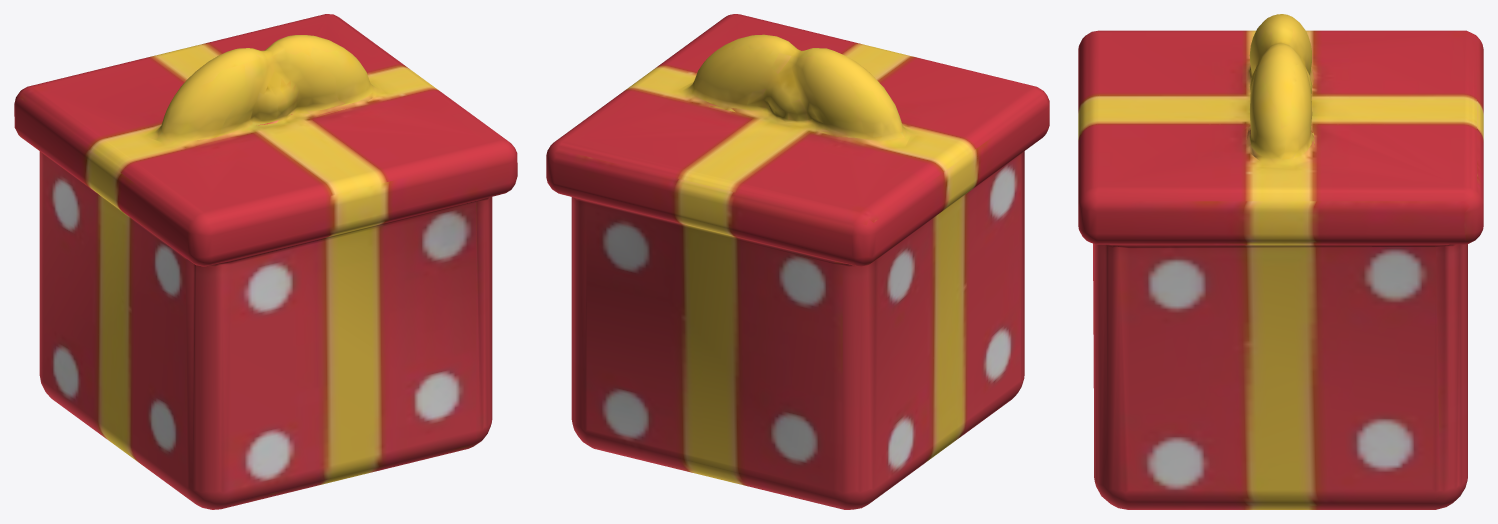
File: item.giftbox.glb
3 views of the same model, side by side, from view 1: azimuth 30°, elevation 25°; view 2: azimuth 150°, elevation 25°; view 3: azimuth 270°, elevation 25° (orthographic). The views are drawn at different scales.
Parts seen in each view (by area): view 1: giftbox; view 2: giftbox; view 3: giftbox.
Boxes of the visible parts, x1=… form: giftbox: x1=14, y1=14, x2=517, y2=509; giftbox: x1=546, y1=14, x2=1049, y2=509; giftbox: x1=1078, y1=14, x2=1483, y2=509.
Bounding box in the file's own units: 0.78 × 0.8676 × 0.78.
1 material, 1 textured.
